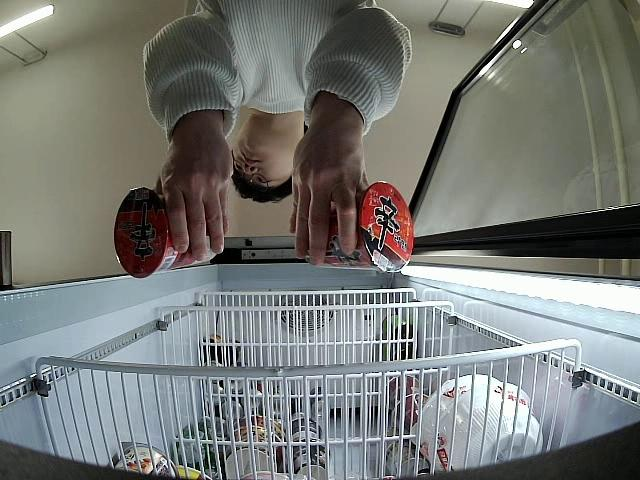00_hand: (288, 113, 371, 266), (159, 136, 234, 261)
02_shinRamen_S: (307, 181, 414, 275), (113, 188, 219, 281)
